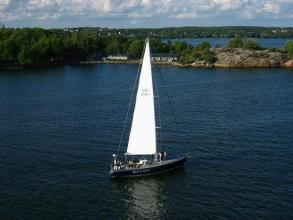fanchuan: (102, 36, 189, 182)
